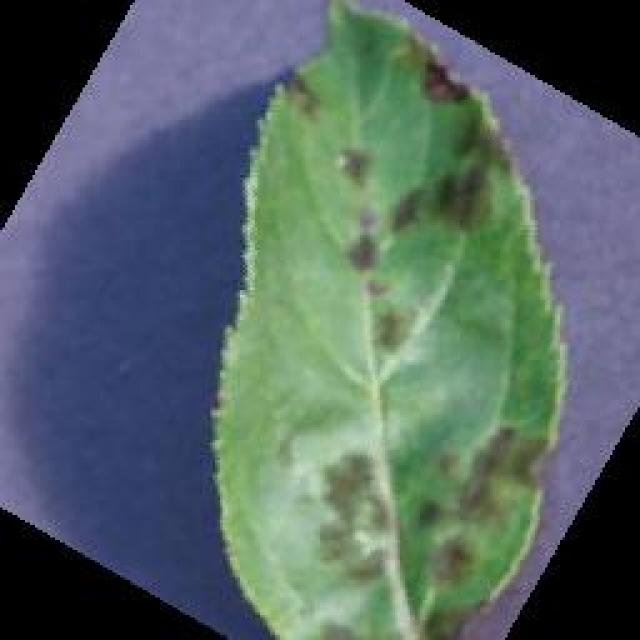apple scab disease: (205, 0, 570, 638)
